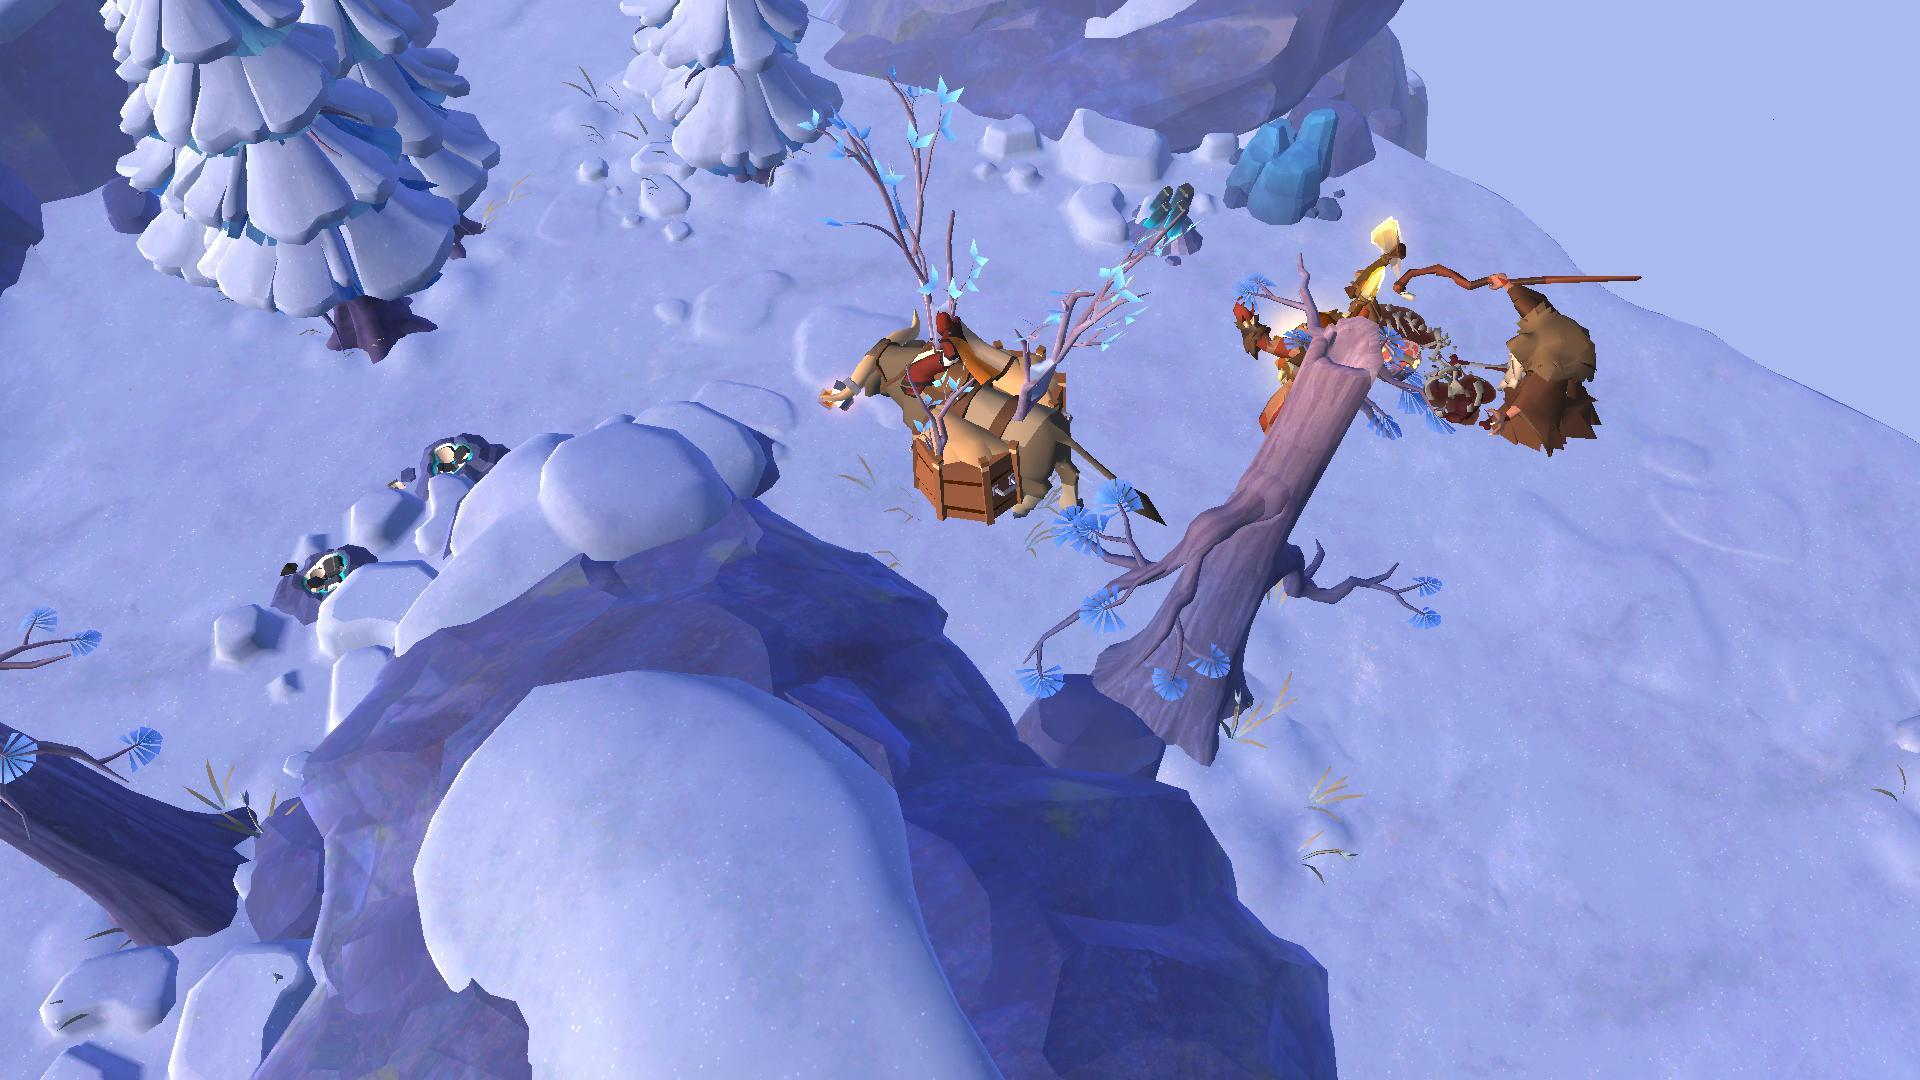enemy_factionKeeper: (1420, 272, 1596, 454)
ore_t4: (1133, 179, 1196, 245)
rock_t4: (1224, 95, 1337, 239)
